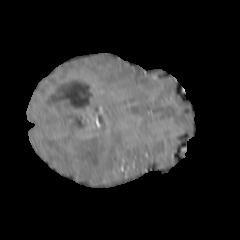glioma: (42, 111, 124, 178)
